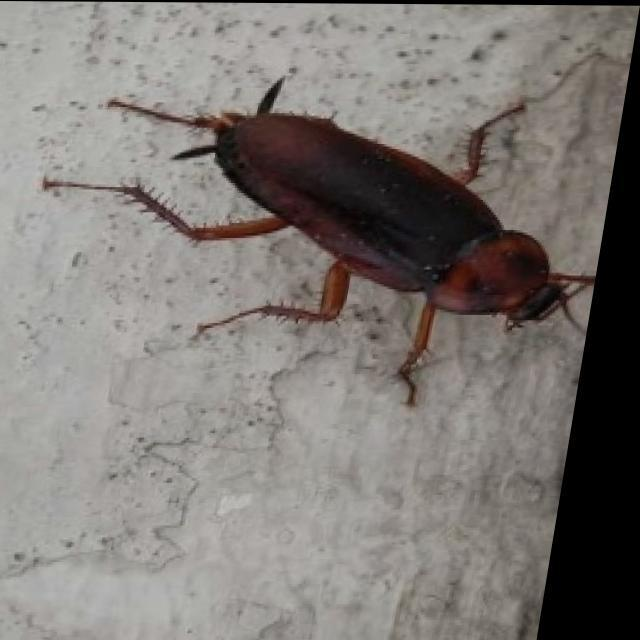cockroach: (39, 71, 597, 410)
